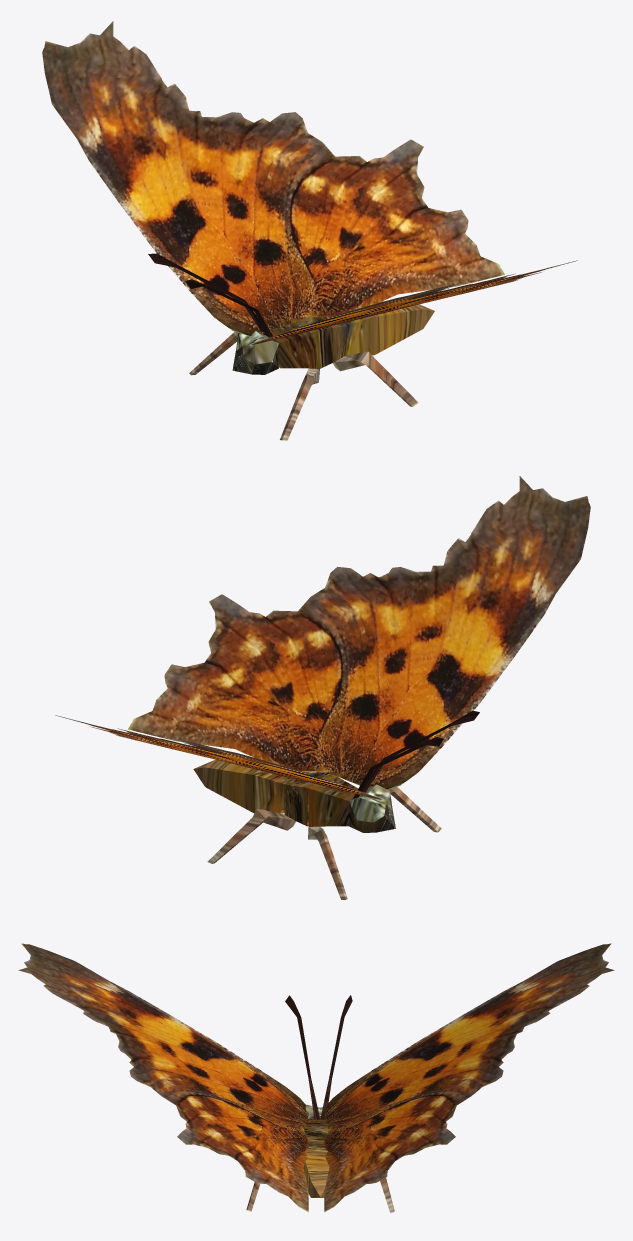
The model's file is Butterfly.fbx.
3 renders of one model, top to bottom at view 1: azimuth 30°, elevation 25°; view 2: azimuth 150°, elevation 25°; view 3: azimuth 270°, elevation 25°, orthographic. The views are drawn at different scales.
Parts seen in each view (by area): view 1: Rwing, Butterfly_LOD0, Lwing; view 2: Lwing, Butterfly_LOD0, Rwing; view 3: Lwing, Rwing, Butterfly_LOD0.
Part boxes in pixels (x1,y1,x2,y2): Rwing: [42, 21, 504, 335]; Butterfly_LOD0: [148, 253, 434, 440]; Lwing: [251, 260, 577, 344]; Lwing: [128, 476, 590, 789]; Butterfly_LOD0: [193, 710, 479, 899]; Rwing: [55, 715, 381, 799]; Lwing: [18, 943, 308, 1211]; Rwing: [324, 943, 614, 1211]; Butterfly_LOD0: [246, 995, 394, 1212].
Size of what is drawn, in the model's own units: 37.22 by 23.63 by 61.69.
